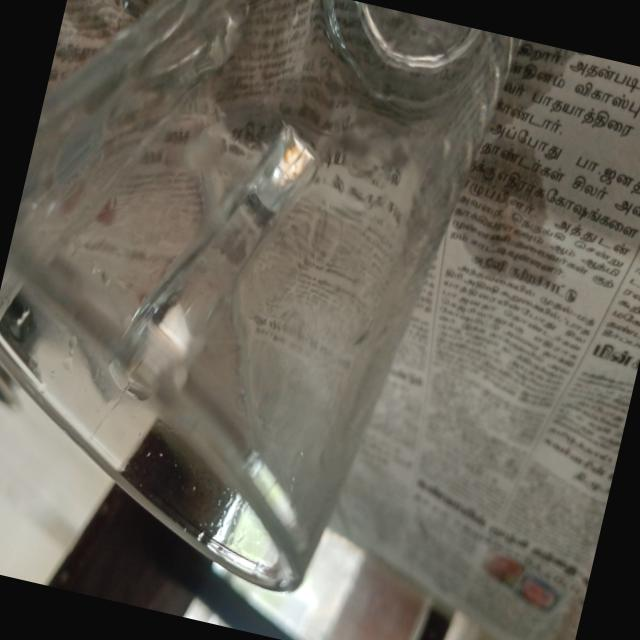glass-VX4N: (0, 0, 526, 619)
